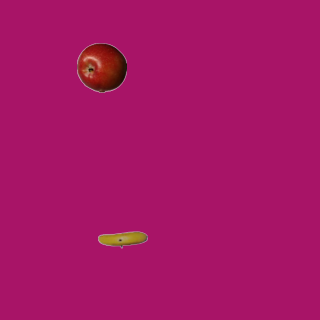Apple Braeburn: (76, 42, 126, 92)
Banana: (97, 214, 147, 264)
